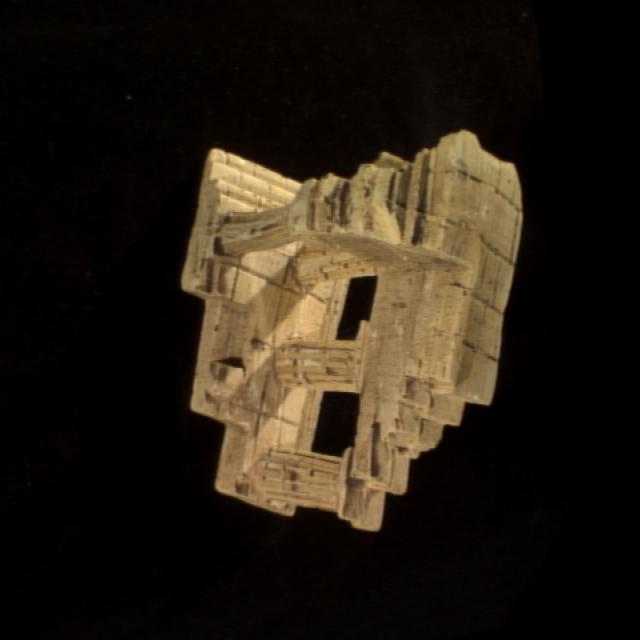Instance-Segmentation: (182, 131, 521, 529)
